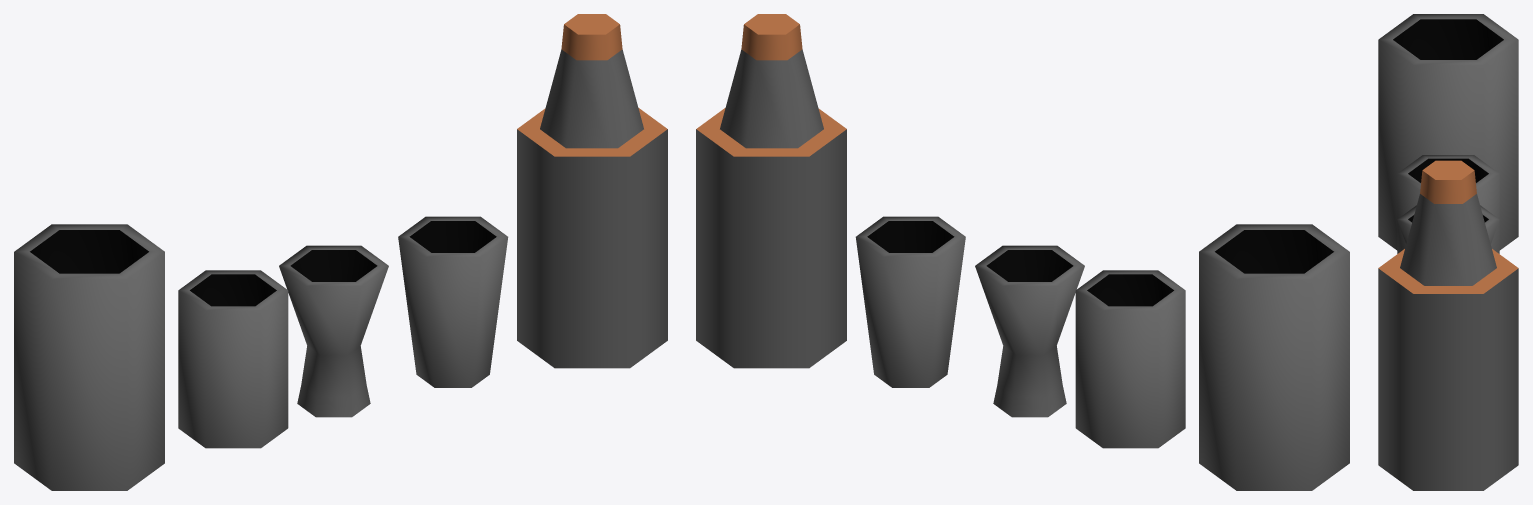
Rendered from CupsAndBottles.fbx.
3 renders of one model, left to right at view 1: azimuth 30°, elevation 25°; view 2: azimuth 150°, elevation 25°; view 3: azimuth 270°, elevation 25°, orthographic. The views are drawn at different scales.
Visible parts, largest first — view 1: Cylinder.004, Cylinder.001, Cylinder.002, Cylinder.005, Cylinder.003; view 2: Cylinder.004, Cylinder.001, Cylinder.002, Cylinder.005, Cylinder.003; view 3: Cylinder.004, Cylinder.001, Cylinder.002, Cylinder.003.
Boxes of the visible parts, bbox=[...] form: Cylinder.004: bbox=[517, 14, 667, 368]; Cylinder.001: bbox=[14, 224, 164, 490]; Cylinder.002: bbox=[178, 270, 288, 448]; Cylinder.005: bbox=[398, 216, 508, 387]; Cylinder.003: bbox=[279, 245, 388, 417]; Cylinder.004: bbox=[696, 14, 846, 368]; Cylinder.001: bbox=[1199, 224, 1349, 490]; Cylinder.002: bbox=[1075, 270, 1185, 448]; Cylinder.005: bbox=[855, 216, 965, 387]; Cylinder.003: bbox=[975, 245, 1084, 417]; Cylinder.004: bbox=[1378, 160, 1518, 490]; Cylinder.001: bbox=[1378, 14, 1518, 250]; Cylinder.002: bbox=[1397, 155, 1499, 253]; Cylinder.003: bbox=[1397, 205, 1499, 244].
Bounding box in the file's own units: 0.5425 × 0.2664 × 0.1151.
